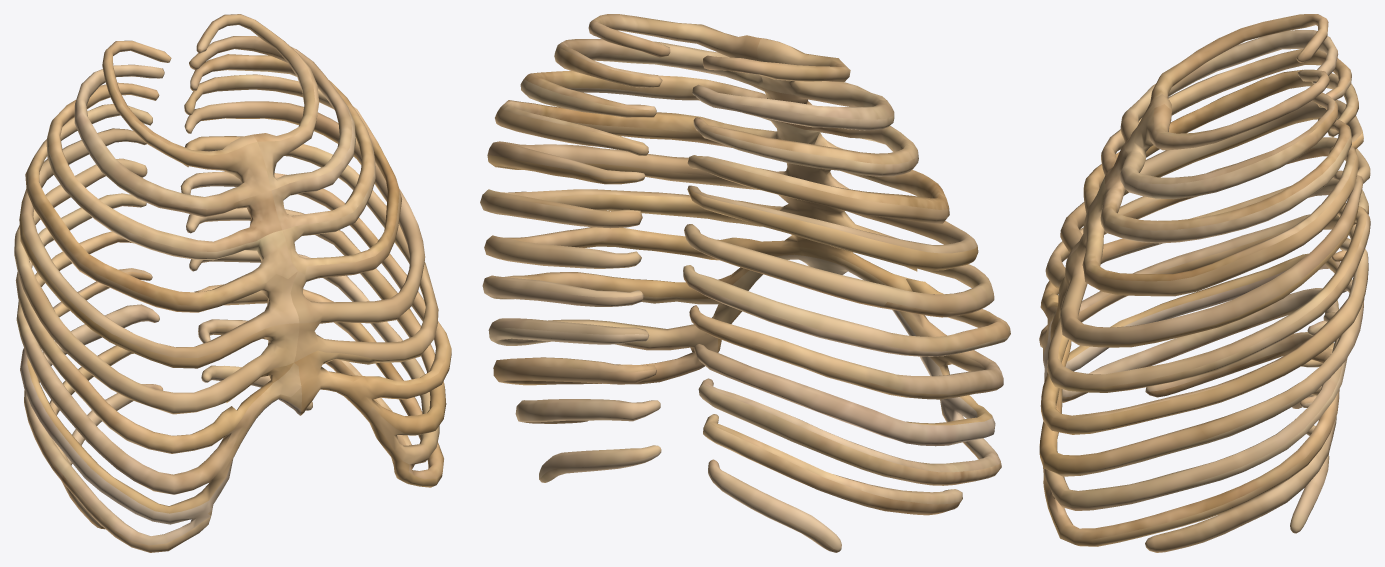
File: ribs.glb
The picture shows the model from 3 angles, left to right: view 1: azimuth 30°, elevation 25°; view 2: azimuth 150°, elevation 25°; view 3: azimuth 270°, elevation 25°; orthographic projection. The views are drawn at different scales.
Visible parts, largest first — view 1: Costillas; view 2: Costillas; view 3: Costillas.
Boxes of the visible parts, bbox=[...] form: Costillas: bbox=[14, 14, 451, 552]; Costillas: bbox=[480, 14, 1010, 552]; Costillas: bbox=[1039, 14, 1370, 552].
Bounding box in the file's own units: 1.03 × 1.1 × 0.775.
Materials: 1 (1 with a texture image).
